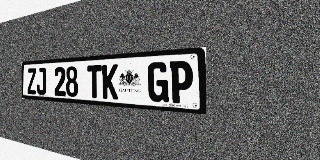2: (54, 67, 65, 96)
8: (66, 66, 78, 97)
G: (148, 61, 169, 103)
J: (36, 67, 46, 95)
K: (102, 64, 118, 99)
P: (169, 60, 193, 104)
T: (87, 65, 102, 98)
Z: (27, 68, 36, 94)
